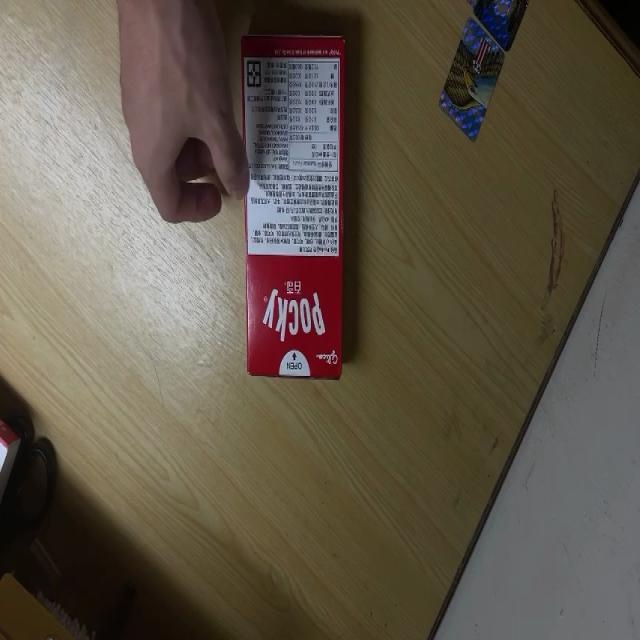Pocky: (237, 32, 347, 380)
